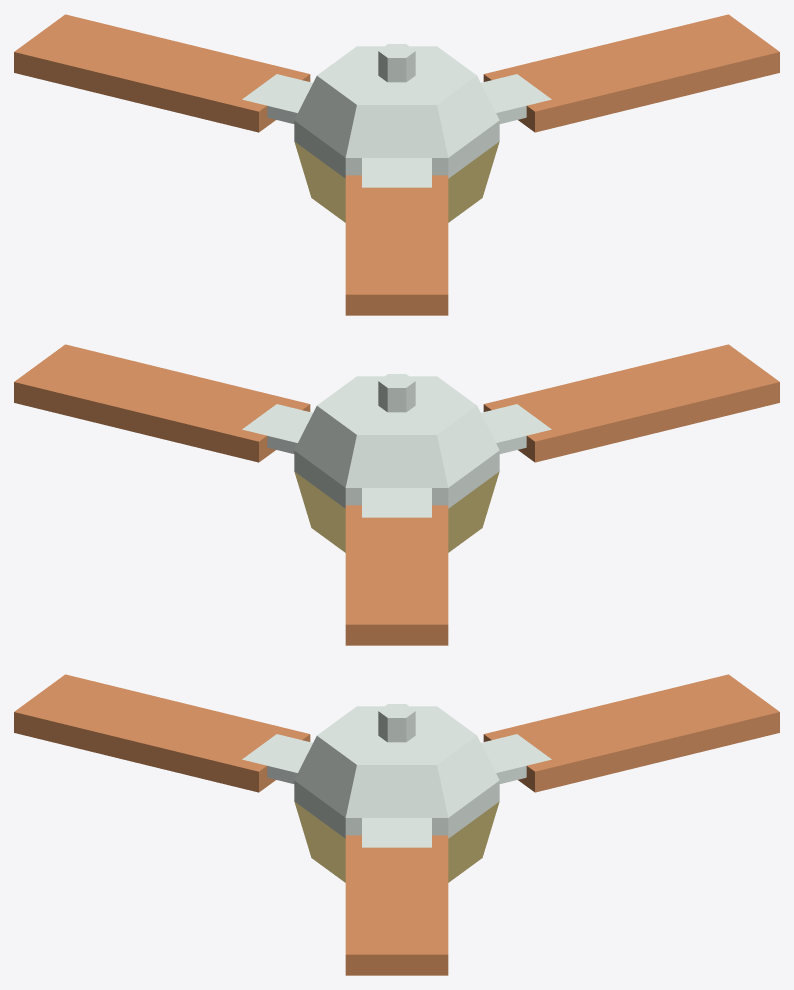
Rendered from Ceiling Fan.glb.
3 renders of one model, top to bottom at view 1: azimuth 30°, elevation 25°; view 2: azimuth 150°, elevation 25°; view 3: azimuth 270°, elevation 25°, orthographic.
Visible parts, largest first — view 1: ceilingFan(Clone); view 2: ceilingFan(Clone); view 3: ceilingFan(Clone).
Boxes of the visible parts, box(x1,y1,x2,y2) form: ceilingFan(Clone): box(14, 14, 779, 315); ceilingFan(Clone): box(14, 344, 779, 645); ceilingFan(Clone): box(14, 674, 779, 975).
Size of the model in its own units: 0.4547 by 0.1337 by 0.5251.
